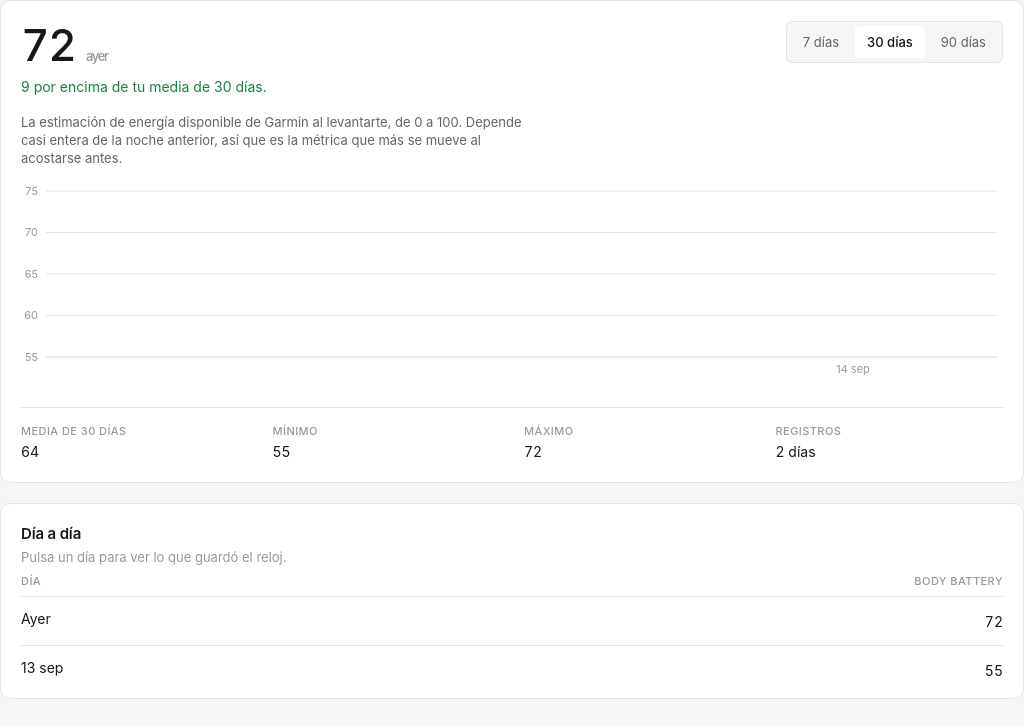
Test case: MetricaDetalle › al pulsar un día de Body Battery pide su serie minuto a minuto de ESE día
Click the button named "ver el detalle del día del 13 sep" at x=42, y=668, box [21,658,63,678]
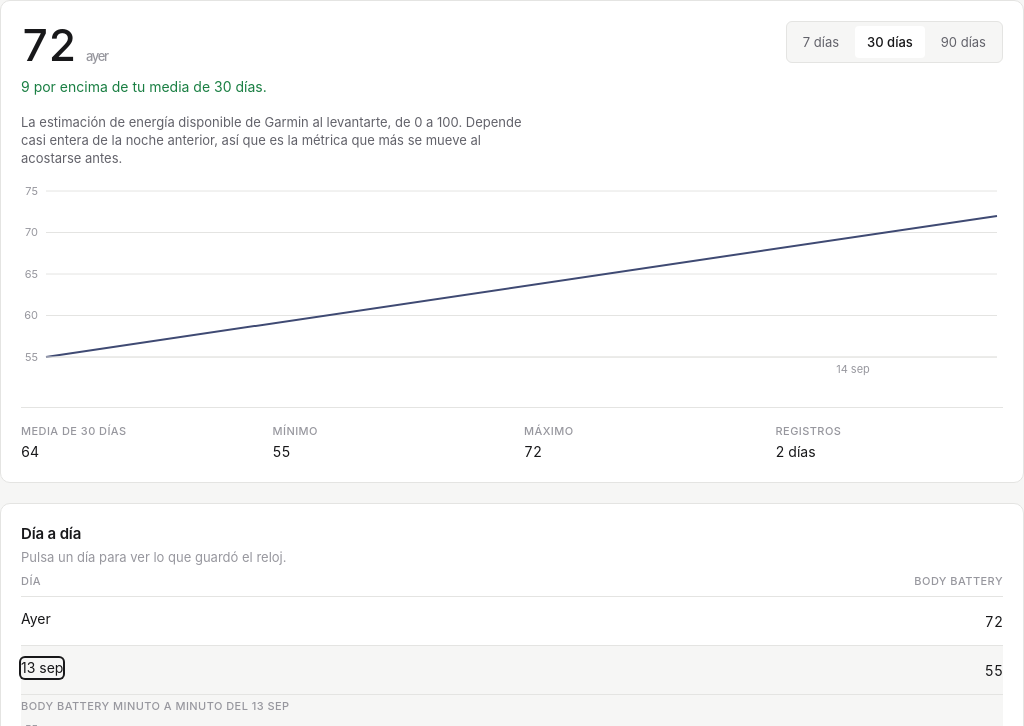
Result: the text "Body Battery minuto a minuto del 13 sep" is shown at [21,699,290,713]
